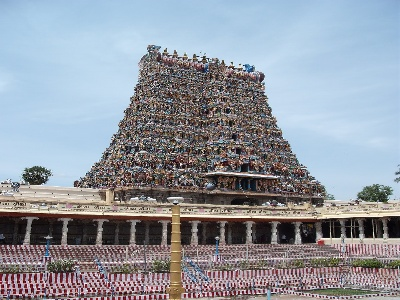gopura: (118, 44, 312, 202)
